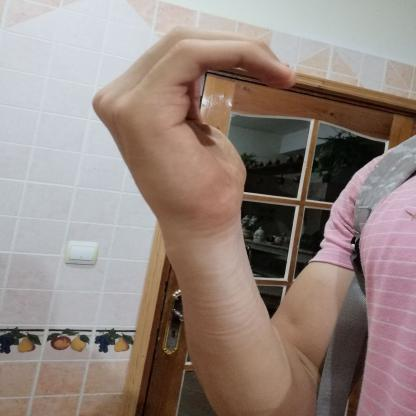HAA: (76, 16, 312, 231)
